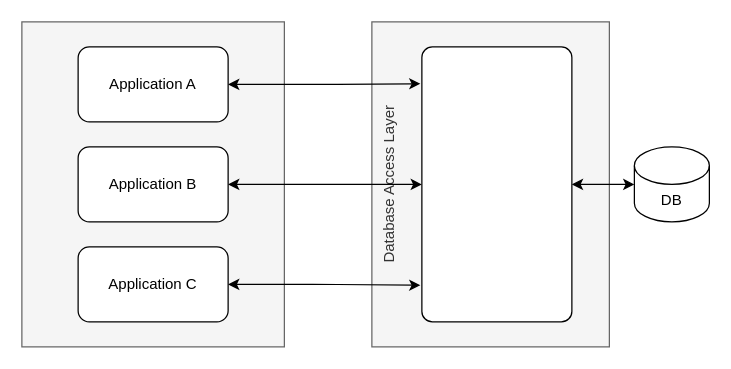
Image size: 731x369. Some labels were removed from this diagram. The box of each missing label's shape, as (x1, y1, x2, y2) in pixels:
Application Layer: (21, 21, 284, 347)
DB Service: (421, 46, 572, 322)
